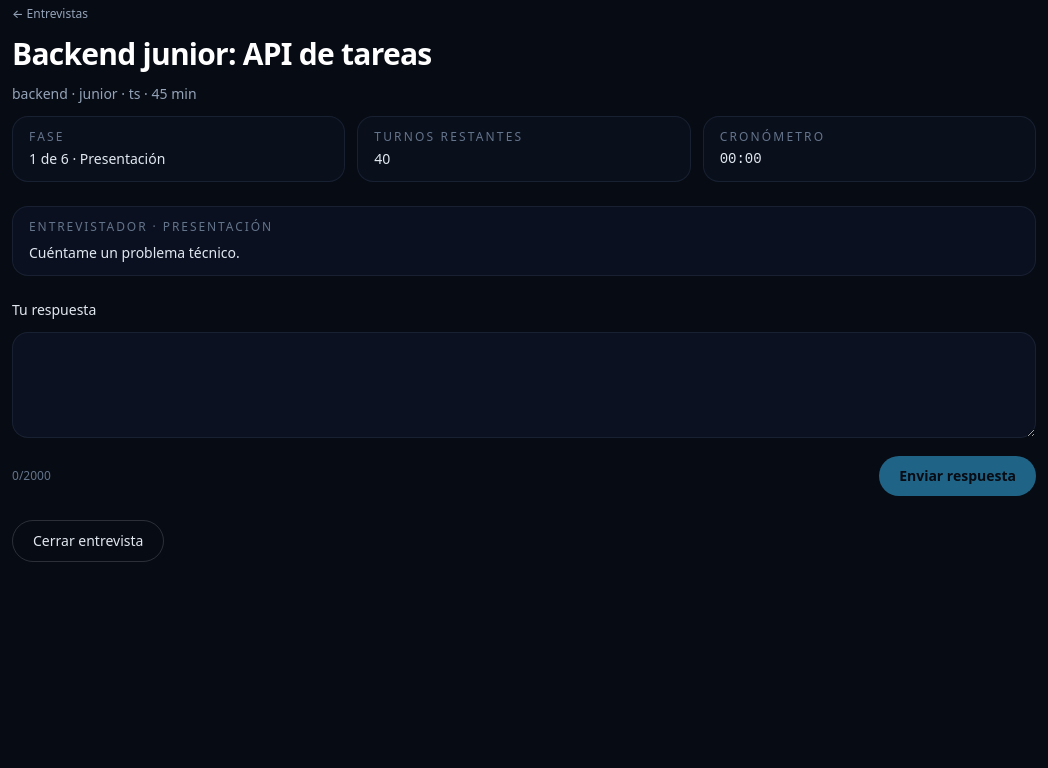
Test: InterviewRoom › avisa cuando la réplica viene del guion estático
The width and height of the screenshot is (1048, 768).
Type "No estoy seguro." into the text box labelled "Tu respuesta" at (524, 385), box [12, 332, 1036, 438]
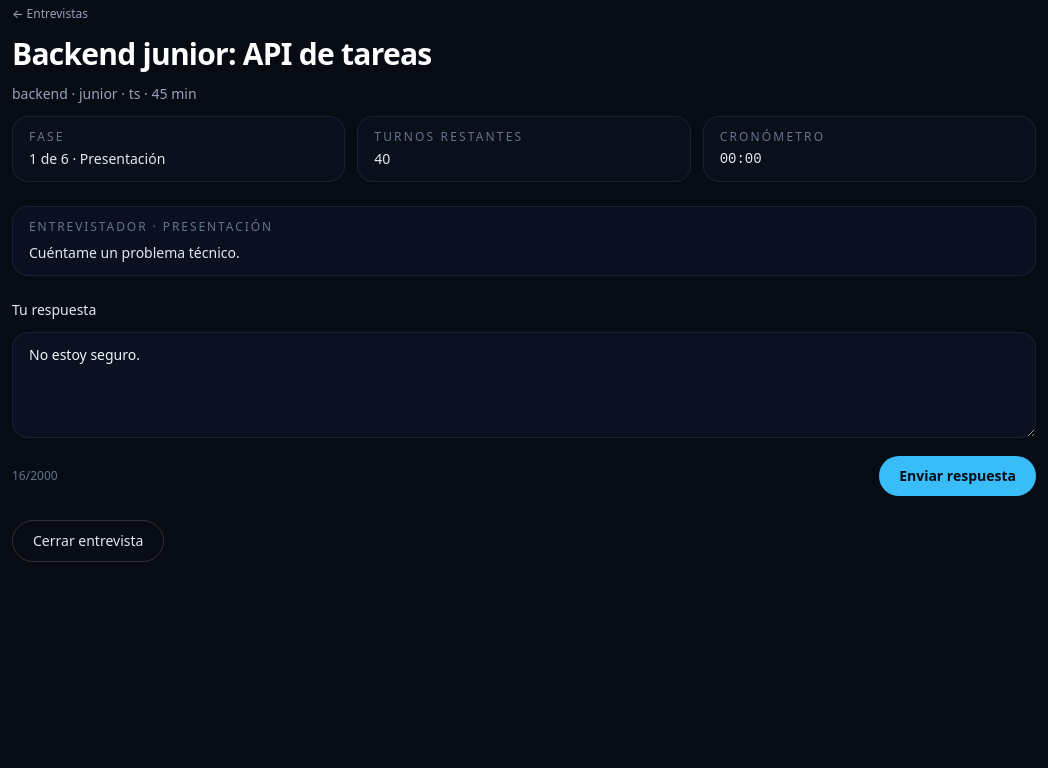
Click the button "Enviar respuesta" at (958, 476), box [879, 456, 1036, 496]
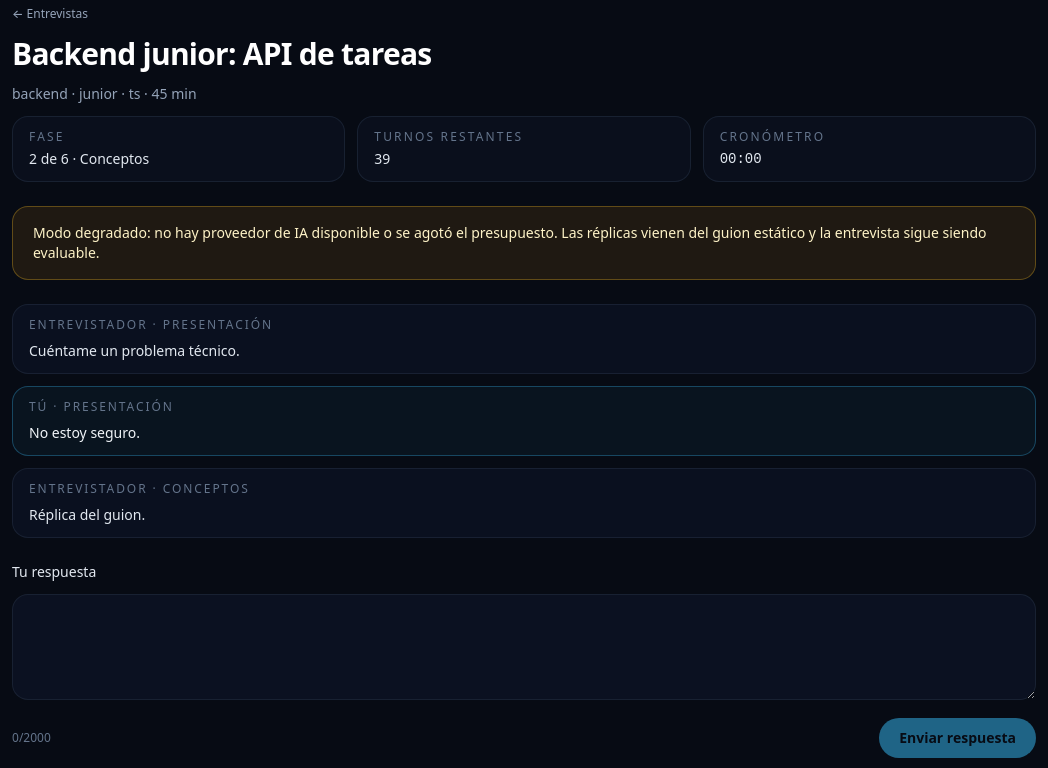
Expected: the text "Modo degradado" is shown, [33, 223, 986, 262]
